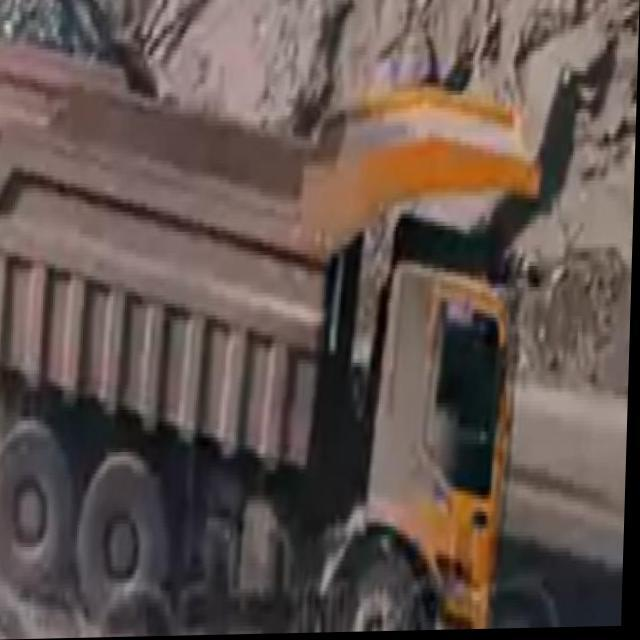uncovered: (0, 0, 562, 625)
